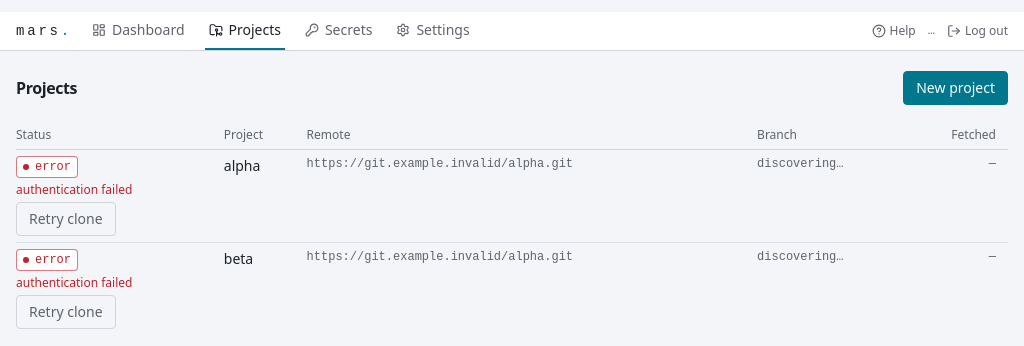
Test: ProjectsPage › keeps both rows busy while two retries overlap
The width and height of the screenshot is (1024, 346).
expect the link "alpha" is shown: met, box [224,156,260,176]
Click the 1st button "Retry clone".
click(66, 219)  # box [16,202,116,236]
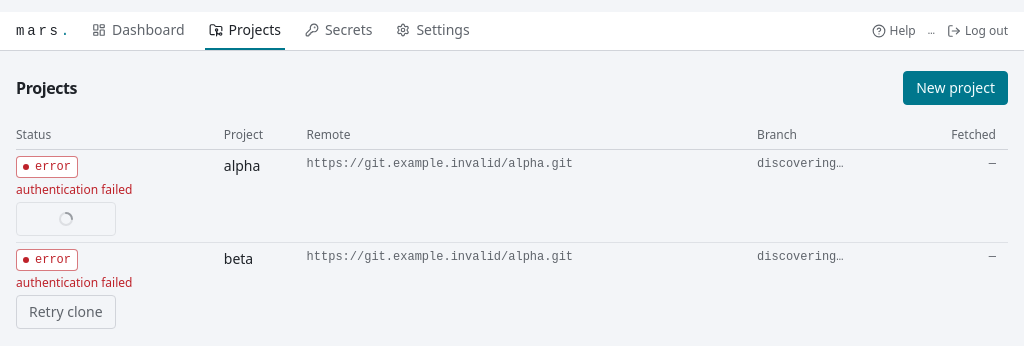
Click the button "Retry clone".
click(66, 312)  # box [16,295,116,329]
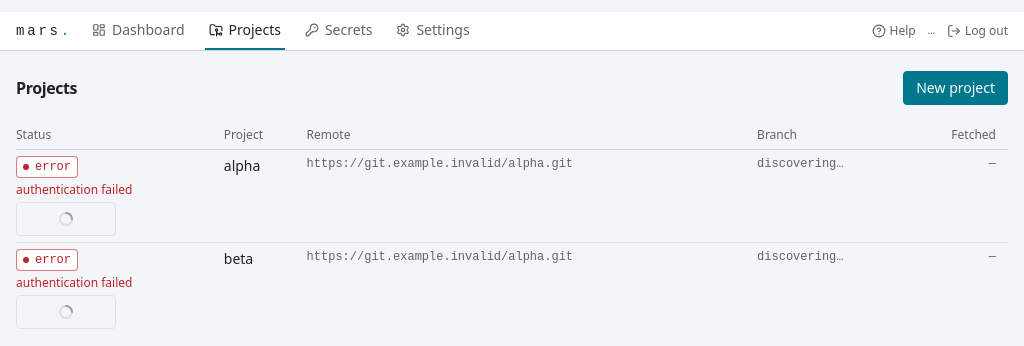
expect the 1st button named "Retry clone" is disabled: met, box [16,202,116,236]
expect the button named "Retry clone" below "beta" is disabled: met, box [16,295,116,329]
